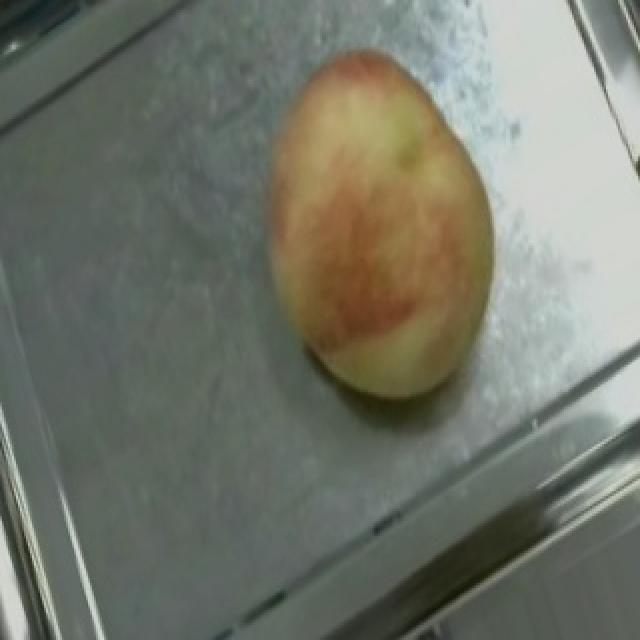Fruit: (224, 15, 542, 350)
